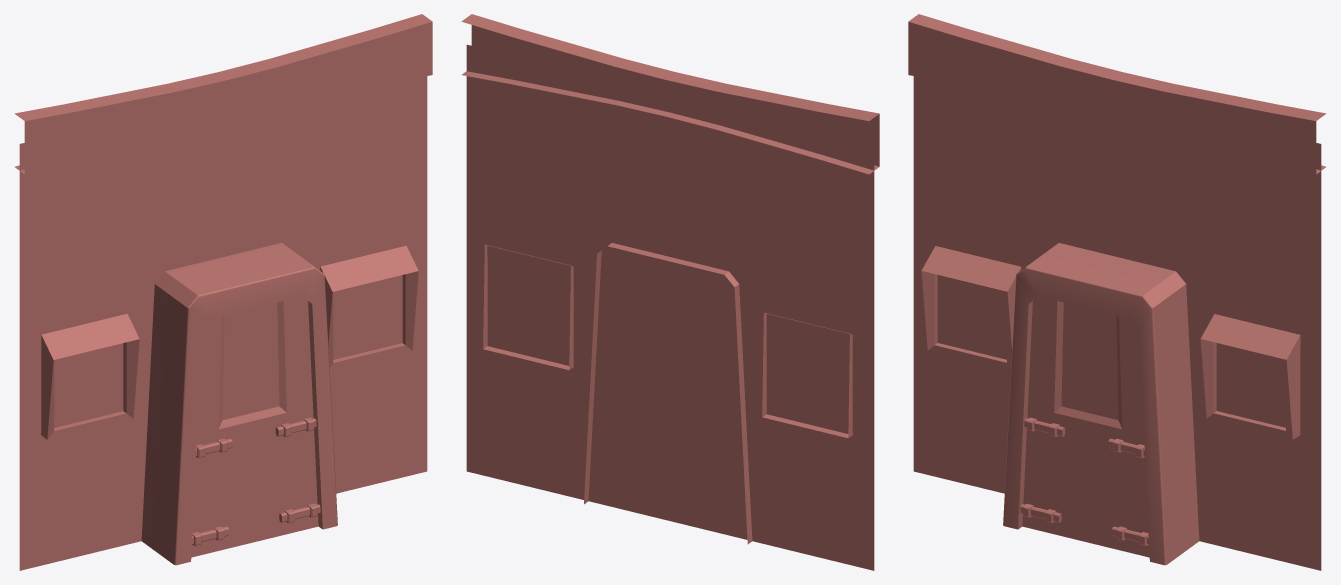
The model's file is Door_1_1.fbx.
3 renders of one model, left to right at view 1: azimuth 30°, elevation 25°; view 2: azimuth 150°, elevation 25°; view 3: azimuth 330°, elevation 25°, orthographic.
Visible parts, largest first — view 1: Door_1_1; view 2: Door_1_1; view 3: Door_1_1.
Part boxes in pixels (box(x1,y1,x2,y2)): Door_1_1: box(14, 14, 432, 570); Door_1_1: box(461, 14, 879, 570); Door_1_1: box(908, 14, 1326, 570).
Size of the model in its own units: 4 by 4.25 by 0.6571.
